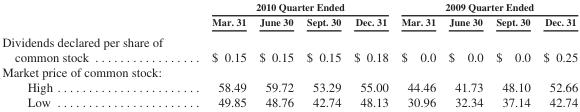table: (1, 0, 577, 109)
table column: (1, 0, 186, 109), (186, 0, 252, 109), (346, 0, 394, 109), (488, 0, 536, 109), (252, 0, 299, 109), (299, 0, 346, 109), (394, 0, 441, 109), (441, 0, 488, 109), (536, 0, 577, 109)
table column header: (1, 0, 577, 31)
table projected row header: (1, 64, 577, 79)
table row: (1, 31, 577, 64), (1, 14, 577, 31), (1, 64, 577, 79), (1, 79, 577, 94), (1, 94, 577, 109), (1, 0, 577, 14)
table spanning cell: (186, 0, 394, 14), (394, 0, 577, 14)
